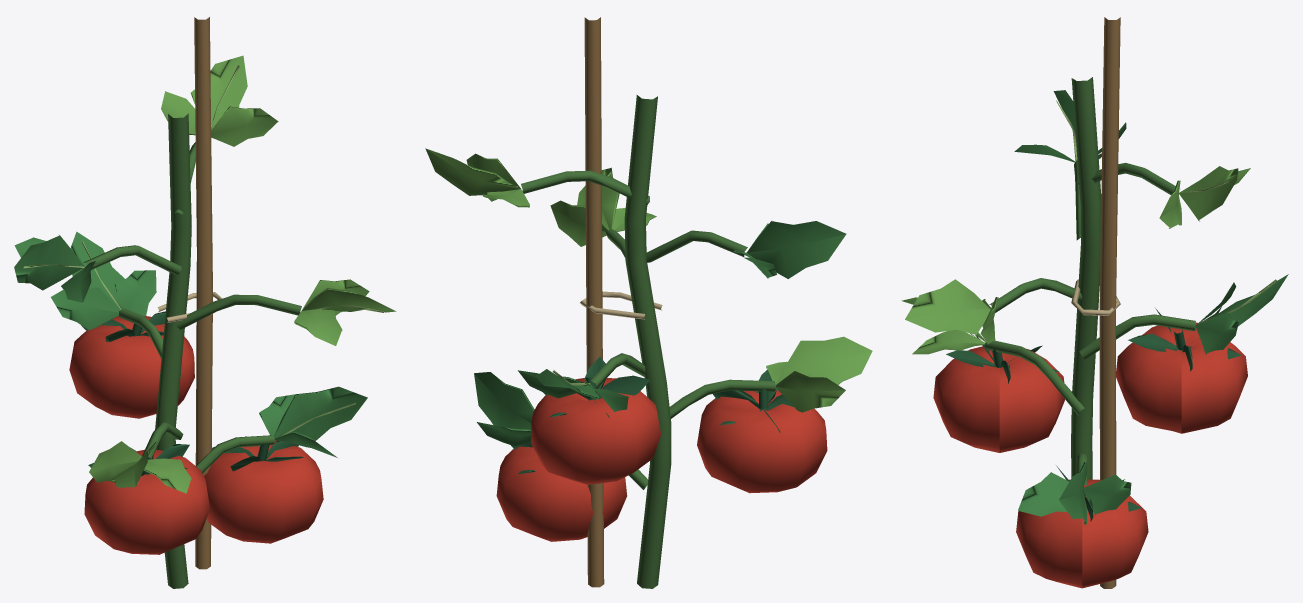
Rendered from tomate_3_lod.glb.
3 views of the same model, side by side, from view 1: azimuth 30°, elevation 25°; view 2: azimuth 150°, elevation 25°; view 3: azimuth 270°, elevation 25° (orthographic). The views are drawn at different scales.
Visible parts, largest first — view 1: tomate_3_mata_0; view 2: tomate_3_mata_0; view 3: tomate_3_mata_0.
Part boxes in pixels (bbox=[...]): tomate_3_mata_0: bbox=[14, 17, 396, 588]; tomate_3_mata_0: bbox=[425, 17, 872, 588]; tomate_3_mata_0: bbox=[901, 17, 1288, 588].
Size of the model in its own units: 0.6812 by 1 by 0.6174.
